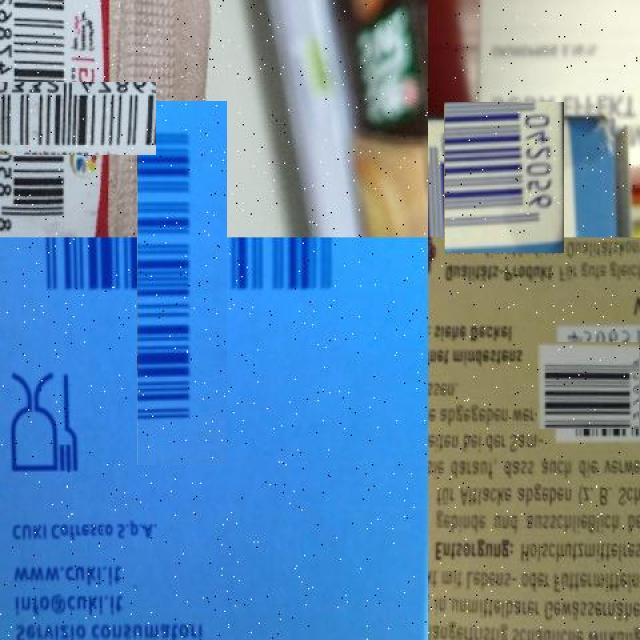Barcode: (68, 169, 296, 396), (436, 110, 572, 246), (0, 41, 115, 197), (544, 335, 640, 437)
